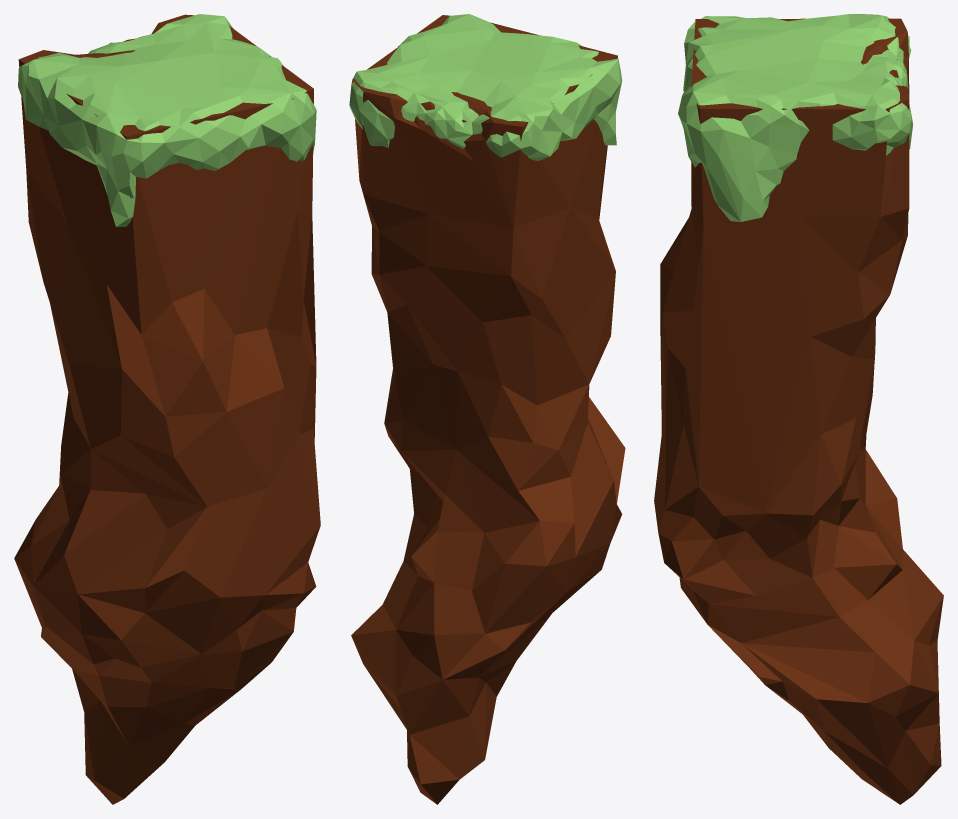
File: Uno_Isola4.fbx
The picture shows the model from 3 angles, left to right: view 1: azimuth 30°, elevation 25°; view 2: azimuth 150°, elevation 25°; view 3: azimuth 270°, elevation 25°; orthographic projection. The views are drawn at different scales.
Parts seen in each view (by area): view 1: Plane.007, Plane.018; view 2: Plane.007, Plane.018; view 3: Plane.007, Plane.018.
Boxes of the visible parts, x1,y1,x2,y2 form: Plane.007: (14, 14, 320, 804); Plane.018: (18, 14, 316, 226); Plane.007: (351, 15, 625, 804); Plane.018: (349, 14, 622, 160); Plane.007: (654, 18, 943, 804); Plane.018: (678, 14, 913, 221).
Bounding box in the file's own units: 168 × 535 × 187.
